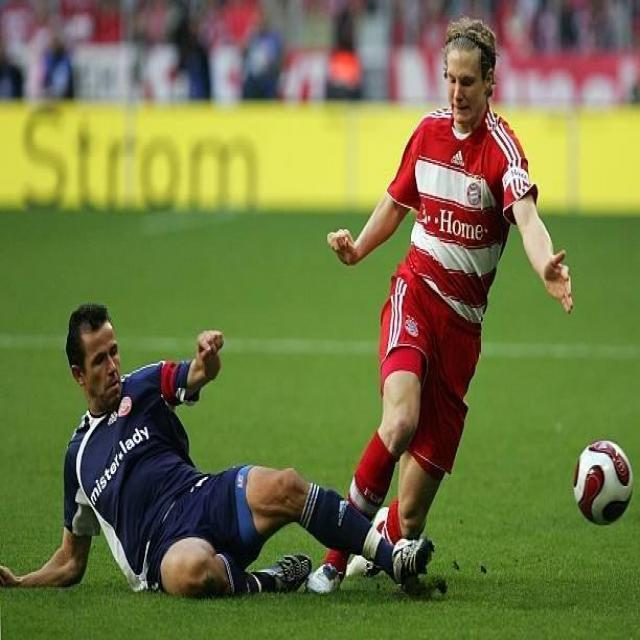ball: (568, 440, 635, 530)
player: (294, 12, 577, 601), (0, 305, 437, 613)
